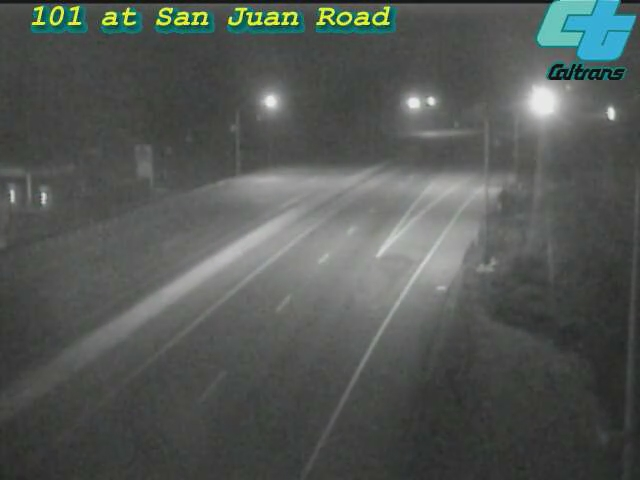vehicle: (588, 89, 638, 139), (518, 80, 568, 130)
